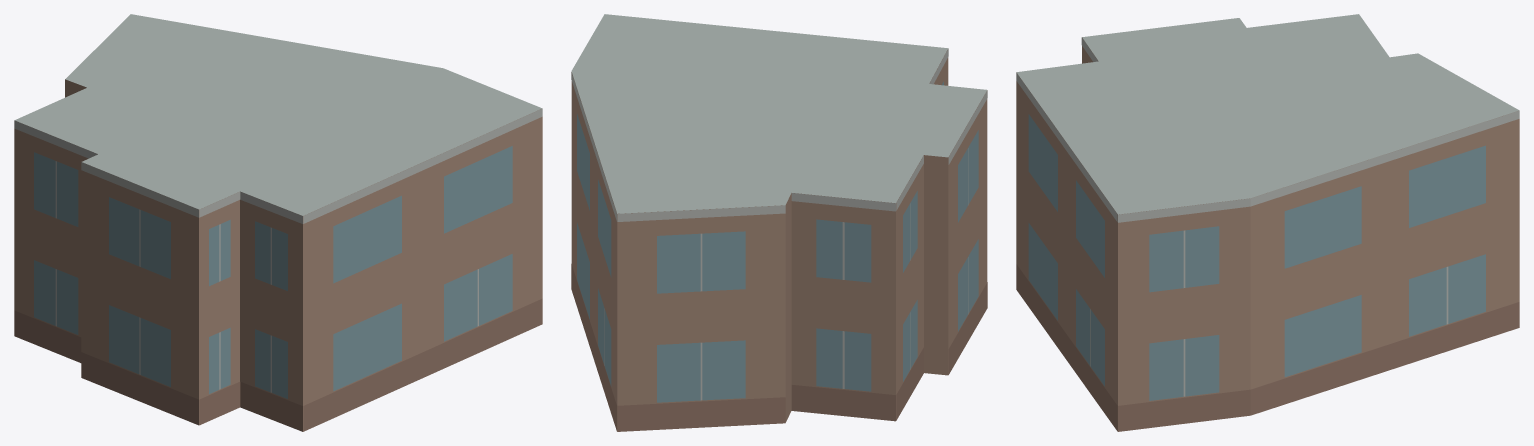
The model's file is survey-upis-32672526.glb.
3 renders of one model, left to right at view 1: azimuth 30°, elevation 25°; view 2: azimuth 150°, elevation 25°; view 3: azimuth 270°, elevation 25°, orthographic.
Parts seen in each view (by area): view 1: survey-upis-32672526.tmp; view 2: survey-upis-32672526.tmp; view 3: survey-upis-32672526.tmp.
Boxes of the visible parts, bbox=[...] form: survey-upis-32672526.tmp: bbox=[14, 14, 542, 431]; survey-upis-32672526.tmp: bbox=[571, 14, 987, 431]; survey-upis-32672526.tmp: bbox=[1016, 14, 1519, 431].
Bounding box in the file's own units: 12.68 × 6.4 × 13.44.
